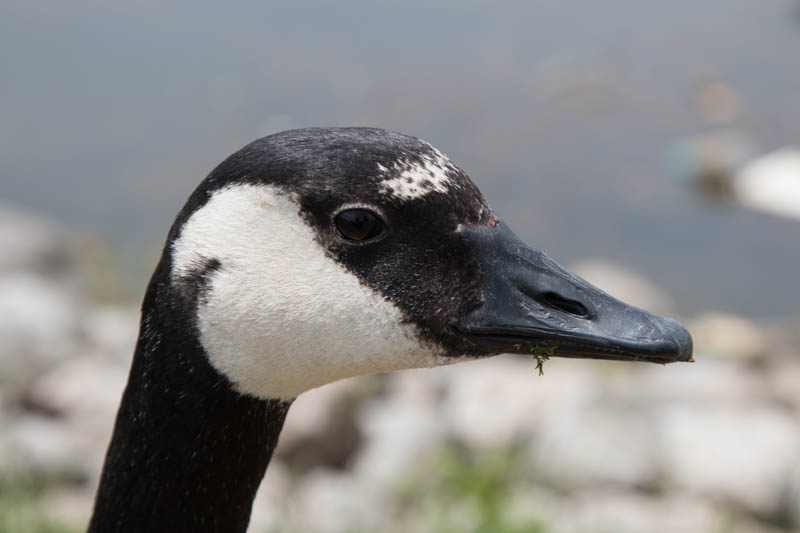goose-head: (122, 127, 695, 399)
